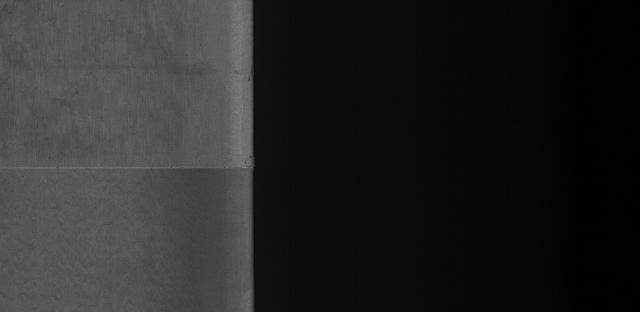welding_line: (2, 156, 277, 181)
